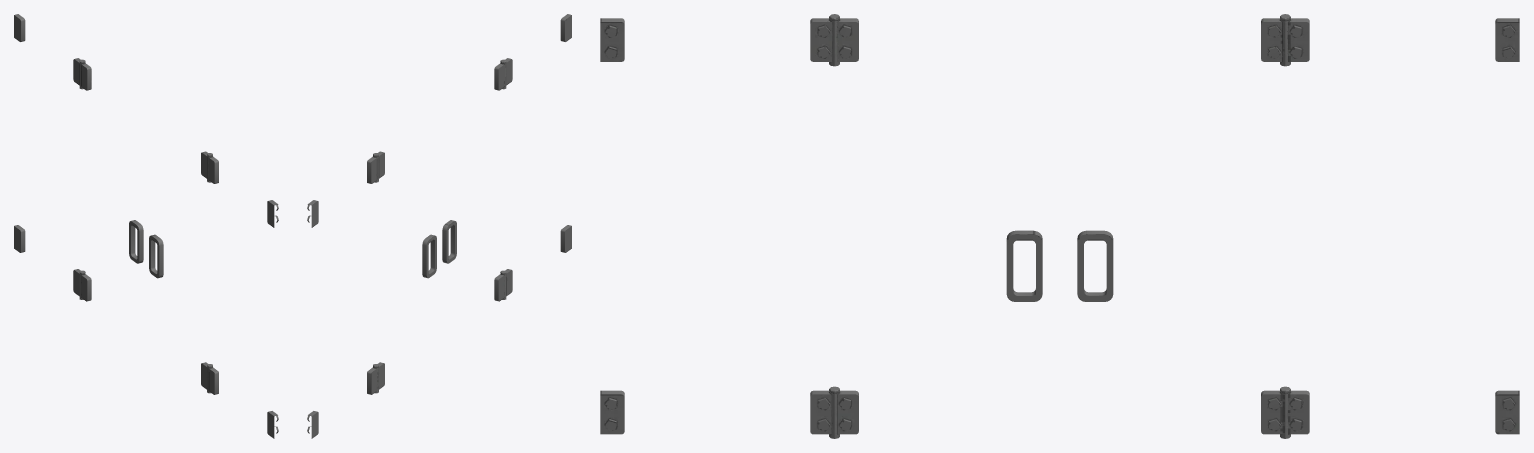
3 renders of one model, left to right at view 1: azimuth 30°, elevation 25°; view 2: azimuth 150°, elevation 25°; view 3: azimuth 270°, elevation 25°, orthographic. The views are drawn at different scales.
Visible parts, largest first — view 1: body0_model0_lod0_mesh0; view 2: body0_model0_lod0_mesh0; view 3: body0_model0_lod0_mesh0.
Boxes of the visible parts, x1=… form: body0_model0_lod0_mesh0: x1=14, y1=14, x2=278, y2=438; body0_model0_lod0_mesh0: x1=307, y1=14, x2=571, y2=438; body0_model0_lod0_mesh0: x1=600, y1=14, x2=1519, y2=438.
Size of the model in its own units: 3 by 105 by 208.
Materials: 1 (1 with a texture image).
